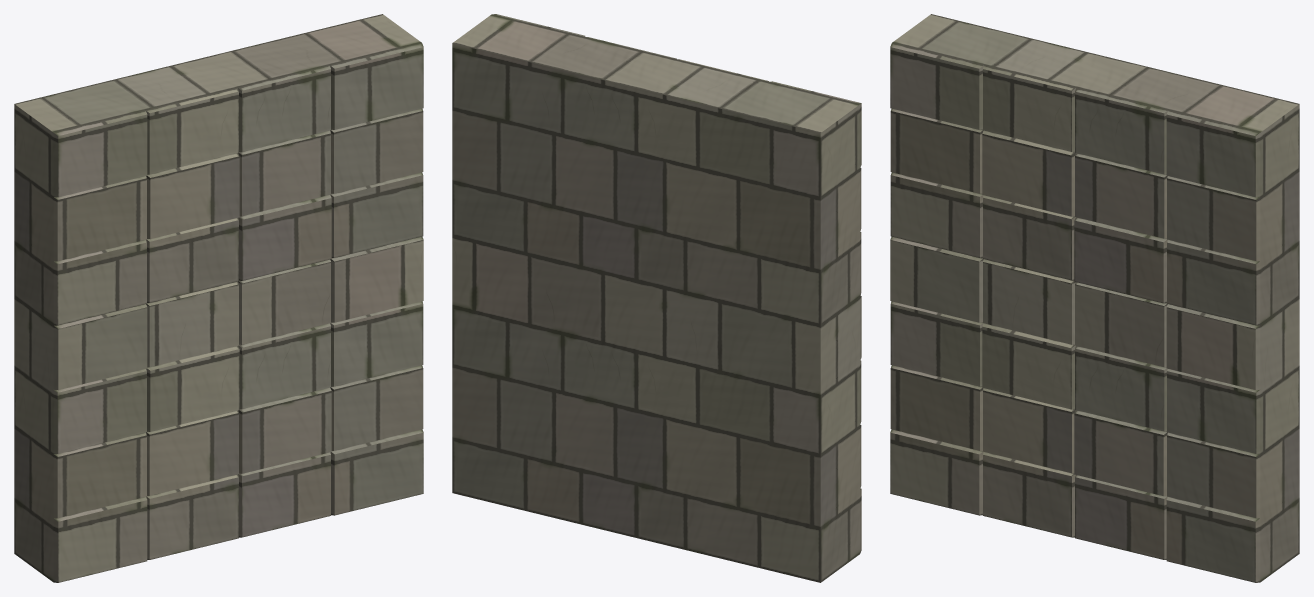
The model's file is Furn_Wall2_Plain.fbx.
3 renders of one model, left to right at view 1: azimuth 30°, elevation 25°; view 2: azimuth 150°, elevation 25°; view 3: azimuth 330°, elevation 25°, orthographic.
Visible parts, largest first — view 1: Furn_Wall2_Plain; view 2: Furn_Wall2_Plain; view 3: Furn_Wall2_Plain.
Part boxes in pixels (left/top/right/bottom): Furn_Wall2_Plain: left=14, top=14, right=423, bottom=582; Furn_Wall2_Plain: left=452, top=14, right=861, bottom=582; Furn_Wall2_Plain: left=890, top=14, right=1299, bottom=582.
Bounding box in the file's own units: 3 × 3.5 × 0.6.
